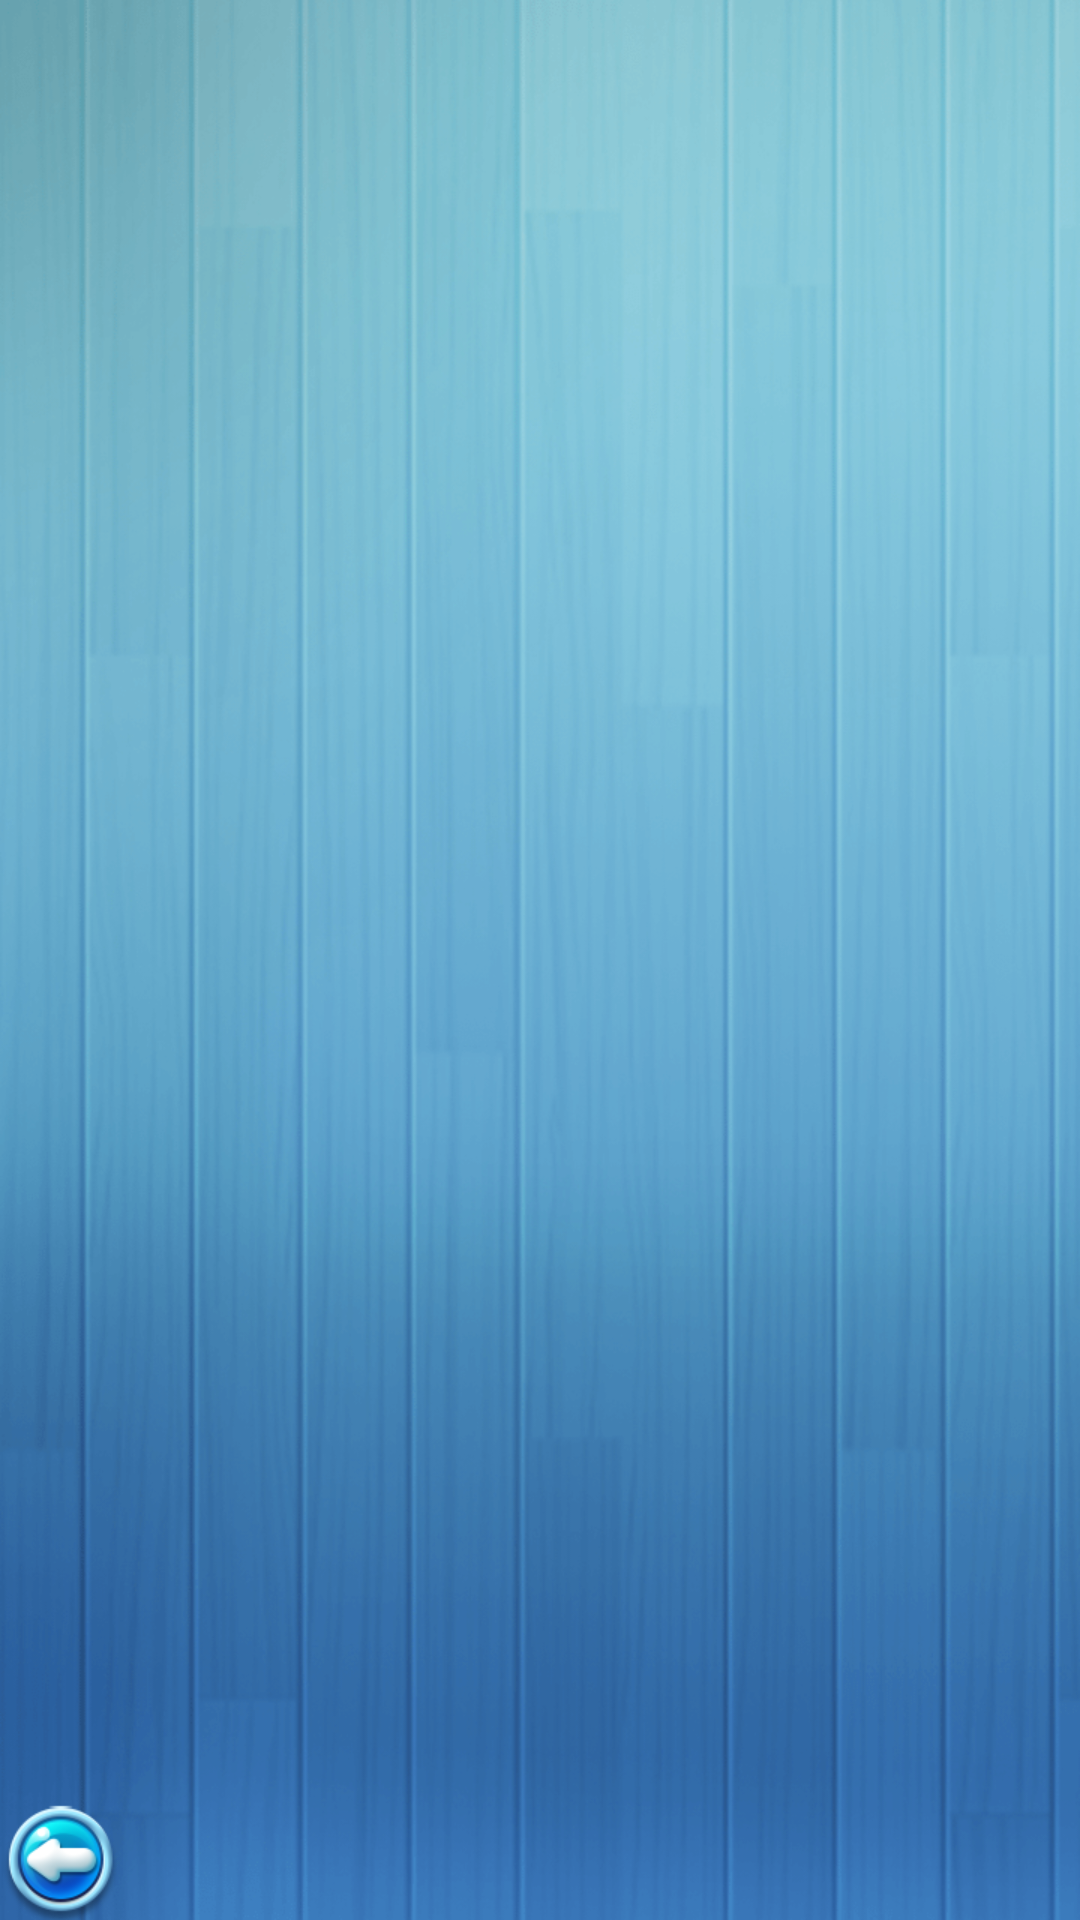

Icons on this 1080w x 1920h Android screen, each with its box as (x1, y1, x2, y2):
back: (8, 1800, 112, 1918)
